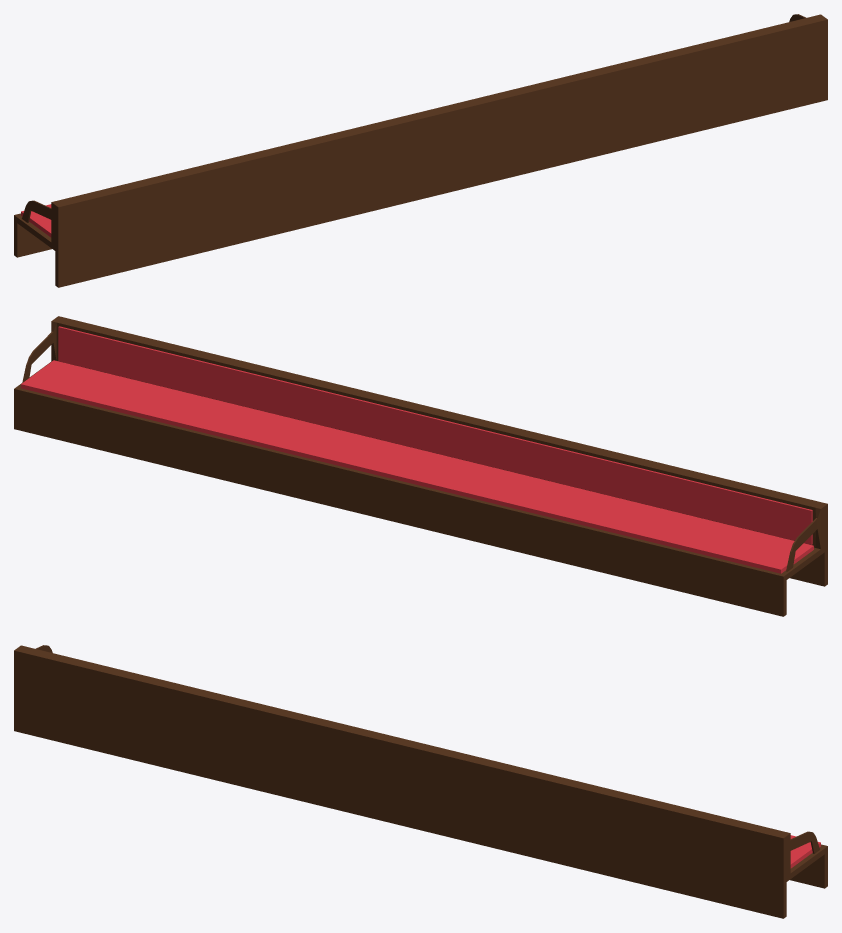
Rendered from sanctuary_pews.glb.
3 views of the same model, one above another, from view 1: azimuth 30°, elevation 25°; view 2: azimuth 150°, elevation 25°; view 3: azimuth 330°, elevation 25° (orthographic).
Parts seen in each view (by area): view 1: sanctuary_pew; view 2: sanctuary_pew; view 3: sanctuary_pew.
Part boxes in pixels (<box>): sanctuary_pew: <box>14,14,827,287</box>; sanctuary_pew: <box>14,316,827,616</box>; sanctuary_pew: <box>14,645,827,918</box>.
Bounding box in the file's own units: 10 × 1 × 1.
